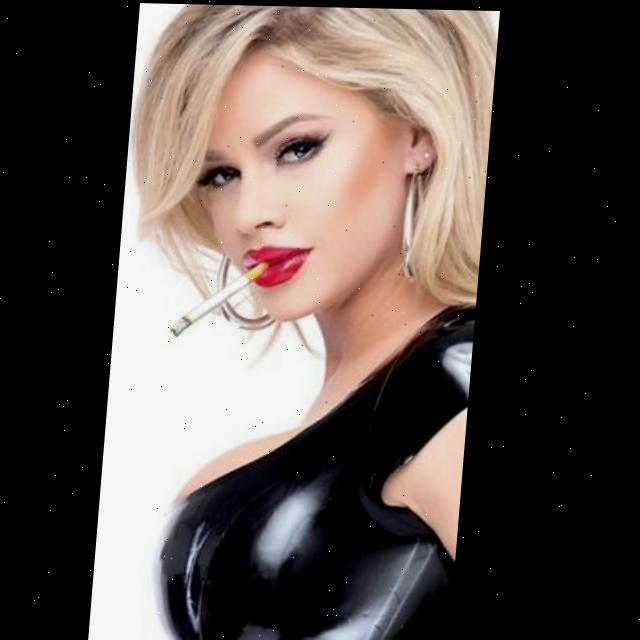cigarette: (176, 259, 270, 337)
